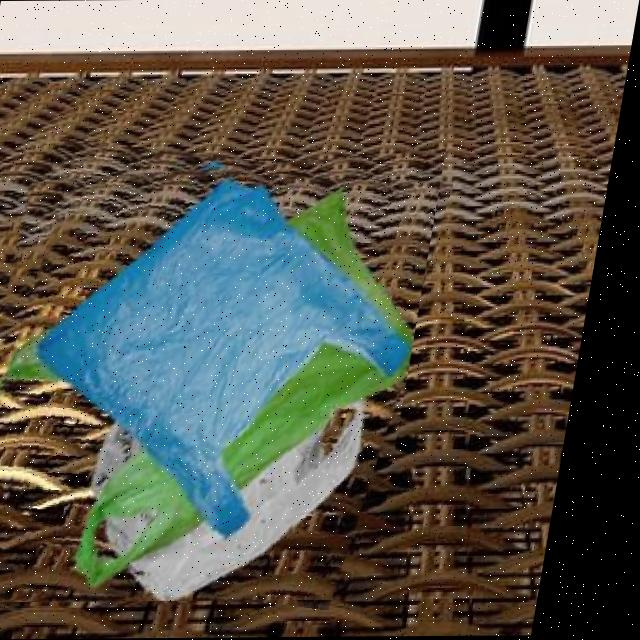plasticcover: (0, 147, 451, 601)
